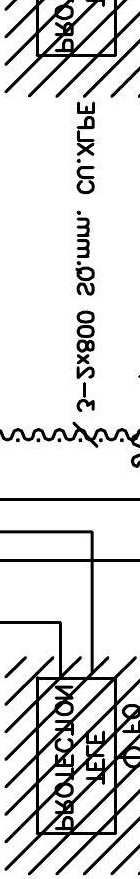tele_protection: (33, 675, 119, 838)
